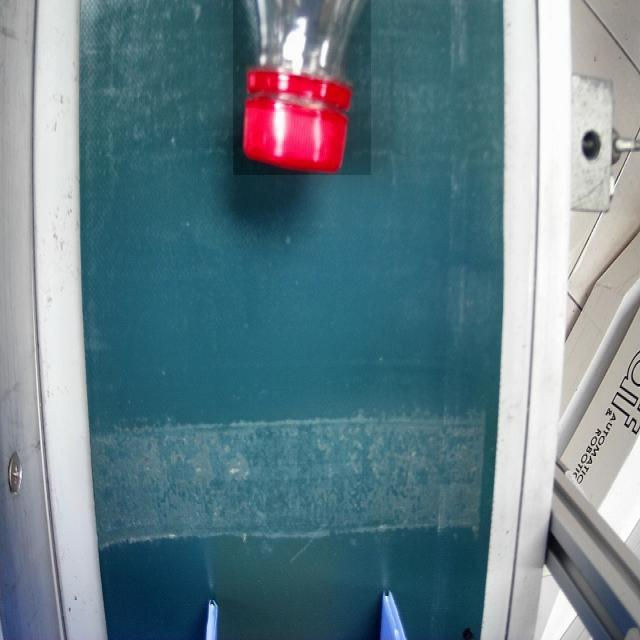Pet_Bottle: (233, 0, 371, 175)
